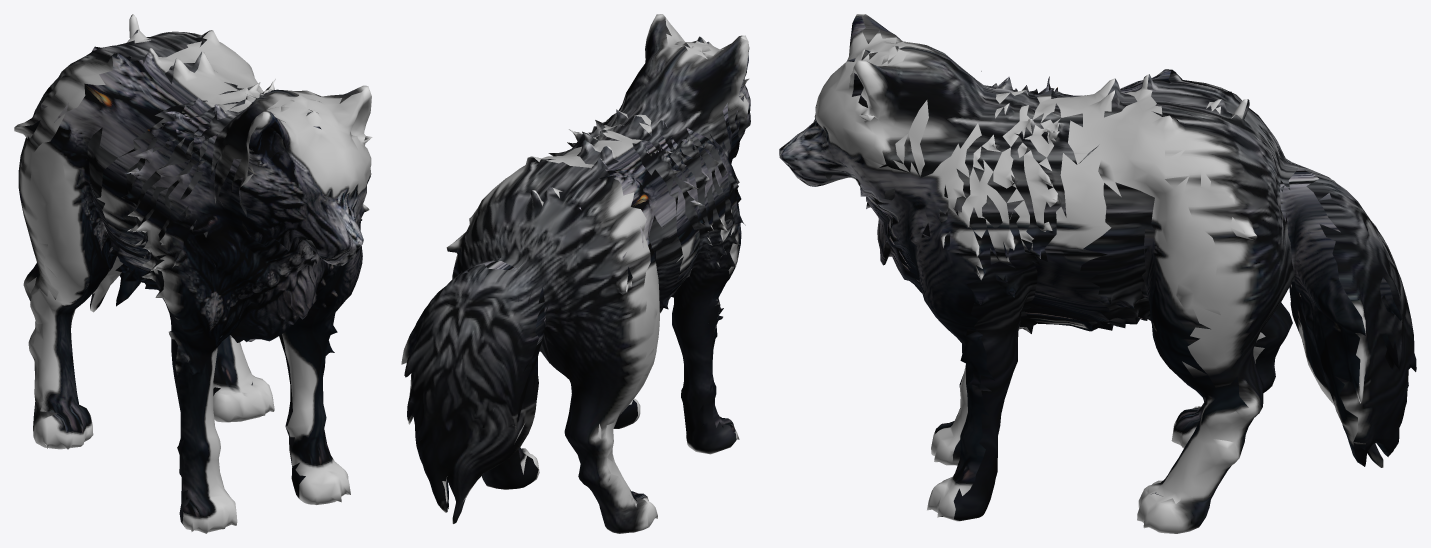
3 renders of one model, left to right at view 1: azimuth 30°, elevation 25°; view 2: azimuth 150°, elevation 25°; view 3: azimuth 270°, elevation 25°, orthographic. The views are drawn at different scales.
Visible parts, largest first — view 1: Mesh_0; view 2: Mesh_0; view 3: Mesh_0.
Boxes of the visible parts, box(x1,y1,x2,y2) form: Mesh_0: box(14, 14, 372, 533); Mesh_0: box(401, 14, 750, 533); Mesh_0: box(779, 14, 1416, 533).
Bounding box in the file's own units: 0.5123 × 1 × 1.28.
Materials: 1 (1 with a texture image).
